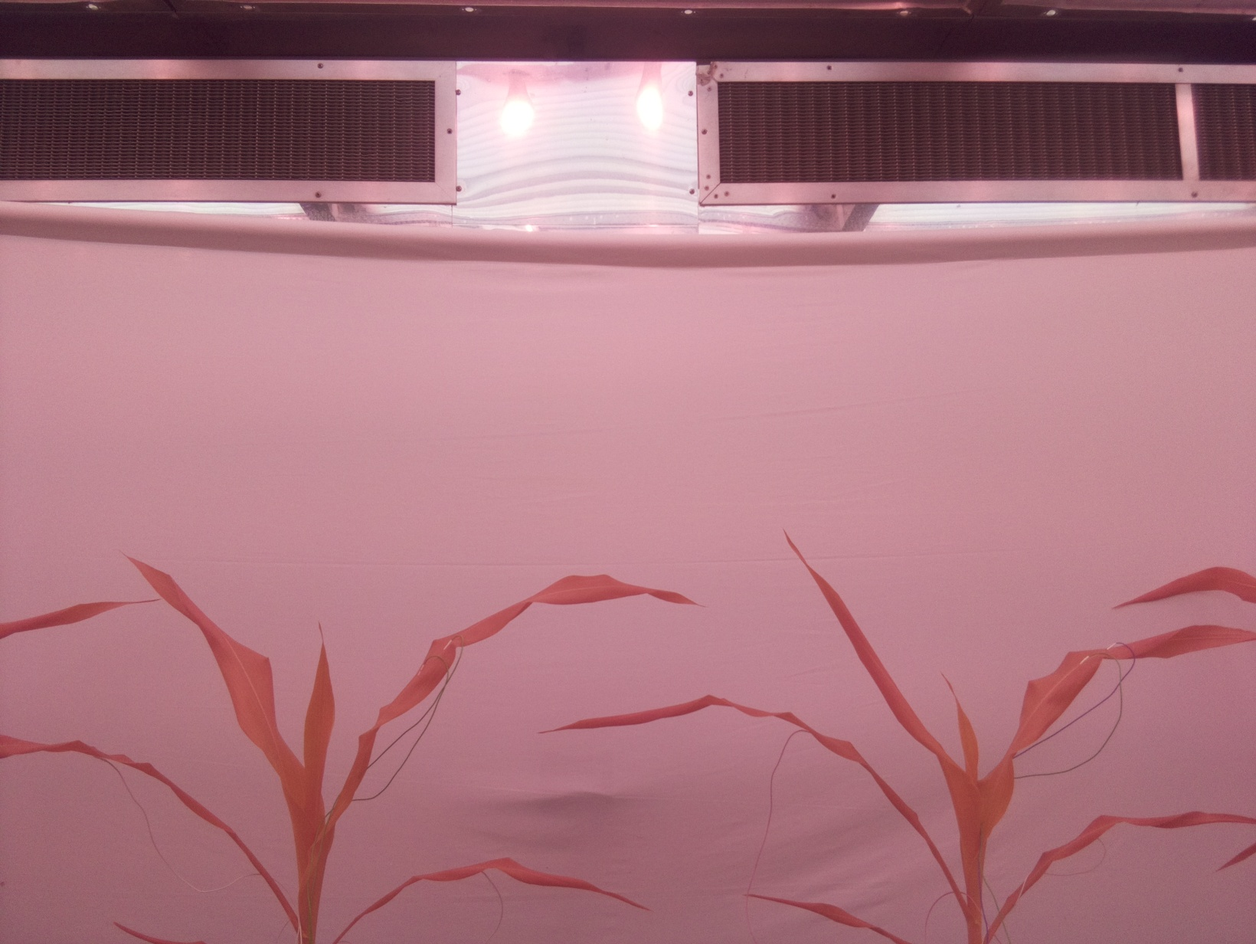maize: (535, 529, 1256, 944), (0, 545, 706, 944)
